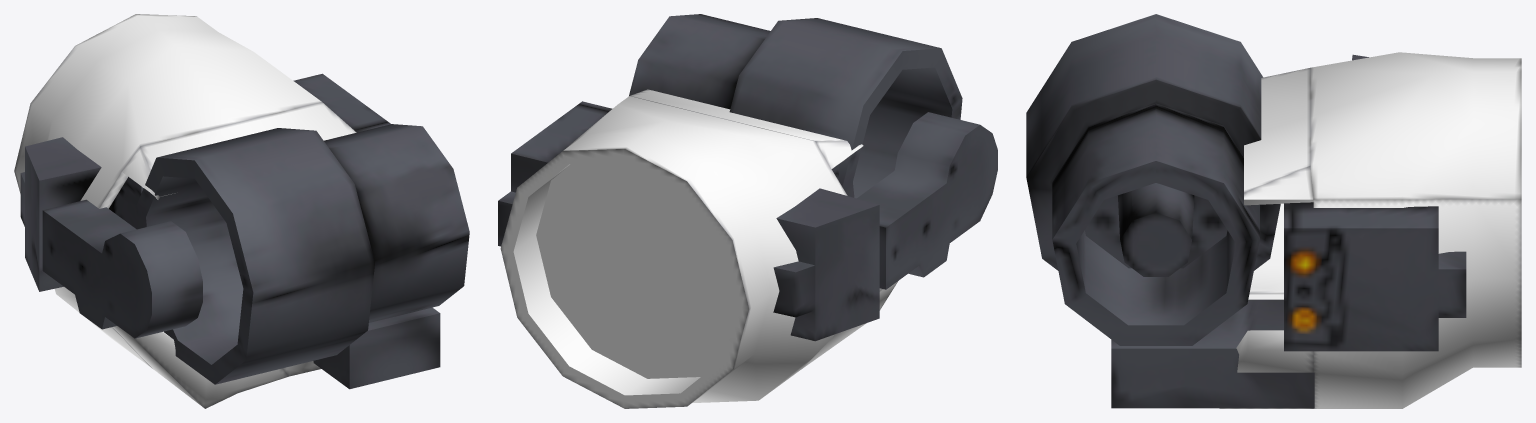
Rendered from r_uarm.dae.
3 views of the same model, side by side, from view 1: azimuth 30°, elevation 25°; view 2: azimuth 150°, elevation 25°; view 3: azimuth 270°, elevation 25° (orthographic). The views are drawn at different scales.
Parts seen in each view (by area): view 1: r_uarm; view 2: r_uarm; view 3: r_uarm.
Part boxes in pixels (x1,y1,x2,y2): r_uarm: (14,14,469,408); r_uarm: (498,14,997,408); r_uarm: (1026,14,1521,408).
Size of the model in its own units: 0.1475 by 0.1769 by 0.1261.
Materials: 1 (1 with a texture image).
